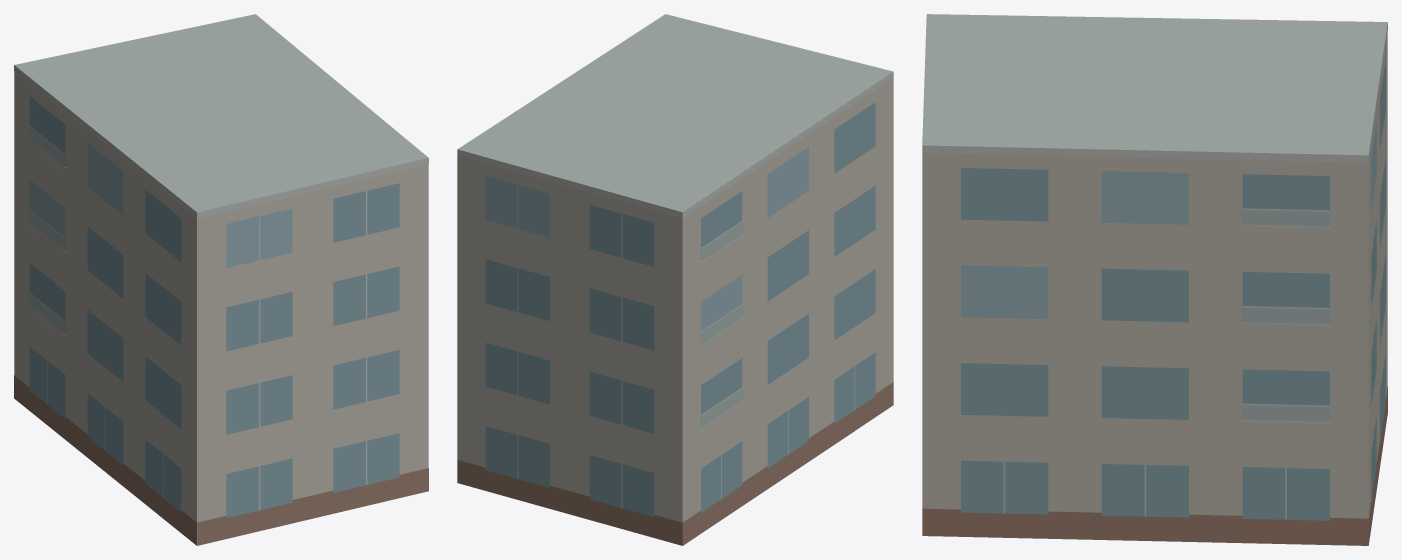
File: survey-upis-32706822.glb
3 views of the same model, side by side, from view 1: azimuth 30°, elevation 25°; view 2: azimuth 150°, elevation 25°; view 3: azimuth 270°, elevation 25° (orthographic). The views are drawn at different scales.
Visible parts, largest first — view 1: survey-upis-32706822.tmp; view 2: survey-upis-32706822.tmp; view 3: survey-upis-32706822.tmp.
Part boxes in pixels (x1,y1,x2,y2): survey-upis-32706822.tmp: (14, 14, 428, 545); survey-upis-32706822.tmp: (457, 14, 893, 545); survey-upis-32706822.tmp: (922, 14, 1387, 545).
Bounding box in the file's own units: 9.8 × 12.61 × 13.64.
